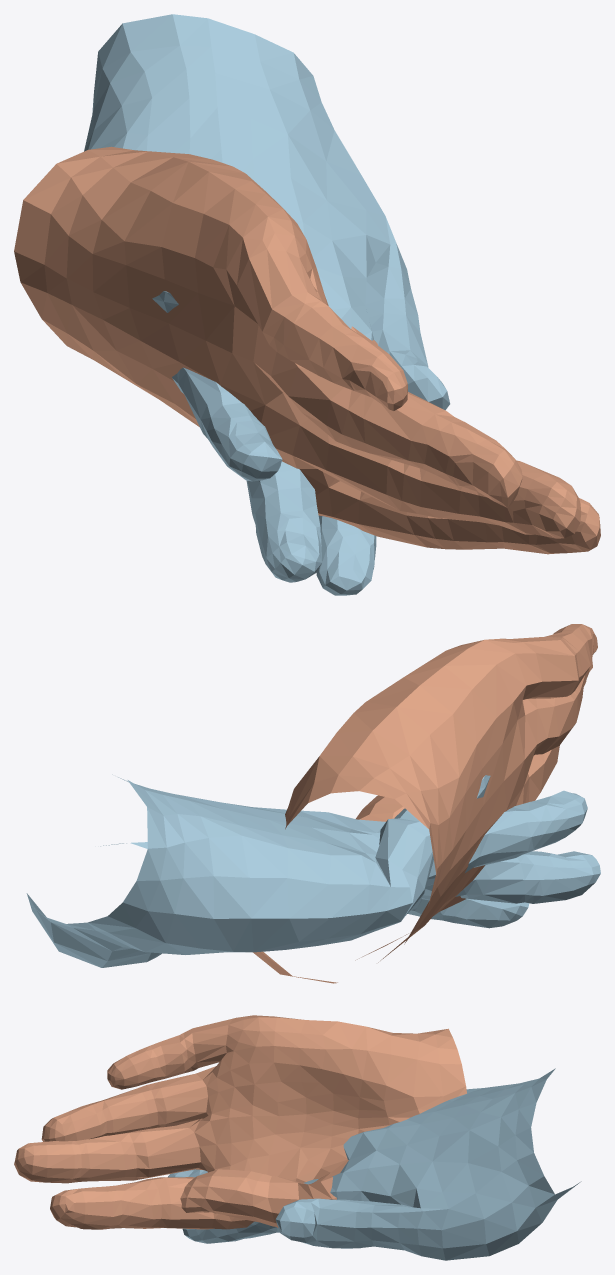
Rendered from frame_045.glb.
3 views of the same model, one above another, from view 1: azimuth 30°, elevation 25°; view 2: azimuth 150°, elevation 25°; view 3: azimuth 270°, elevation 25° (orthographic). The views are drawn at different scales.
Visible parts, largest first — view 1: world; view 2: world; view 3: world.
Boxes of the visible parts, left/top/right/bottom form: world: left=14, top=14, right=600, bottom=595; world: left=26, top=624, right=600, bottom=983; world: left=14, top=1015, right=581, bottom=1260.
Bounding box in the file's own units: 0.1019 × 0.0885 × 0.2178.
